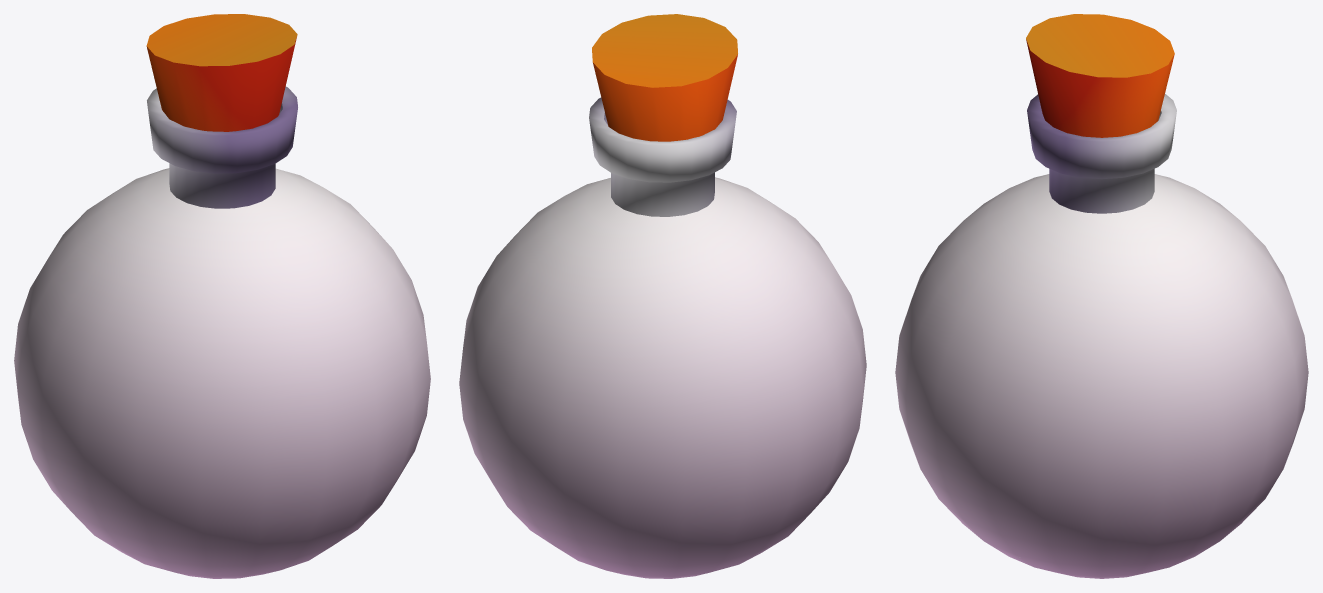
The model's file is Potion.fbx.
3 views of the same model, side by side, from view 1: azimuth 30°, elevation 25°; view 2: azimuth 150°, elevation 25°; view 3: azimuth 270°, elevation 25° (orthographic). The views are drawn at different scales.
Visible parts, largest first — view 1: Potion; view 2: Potion; view 3: Potion.
Boxes of the visible parts, x1,y1,x2,y2 form: Potion: (14, 14, 430, 578); Potion: (459, 14, 866, 578); Potion: (895, 14, 1308, 578).
Size of the model in its own units: 81.76 by 113 by 81.76.
